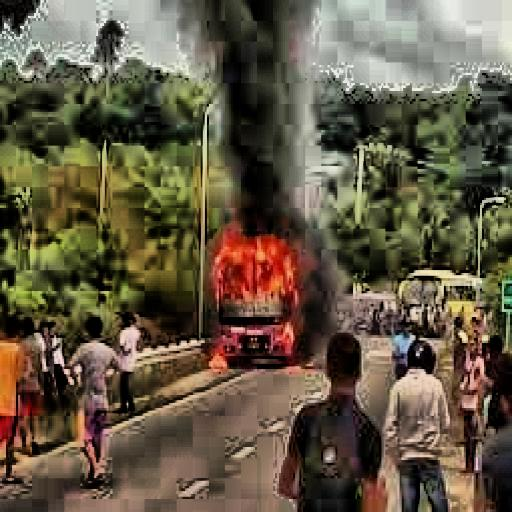fire: (207, 218, 317, 390)
